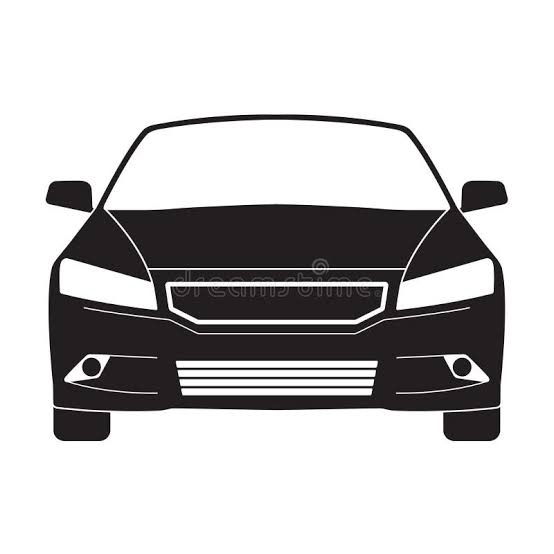car: (38, 108, 498, 455)
